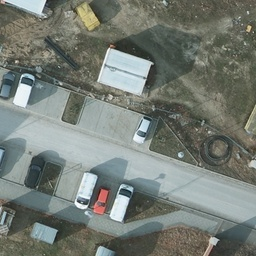car: (0, 71, 22, 100), (23, 157, 44, 187), (92, 184, 109, 217), (133, 118, 151, 145), (0, 146, 5, 180)
van: (110, 183, 139, 223), (8, 75, 42, 109), (74, 167, 97, 210)
